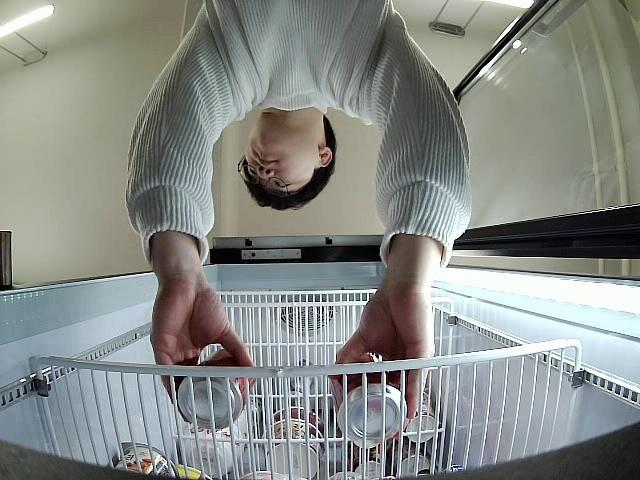11_cocaColaZero: (330, 354, 409, 450), (177, 347, 257, 432)
